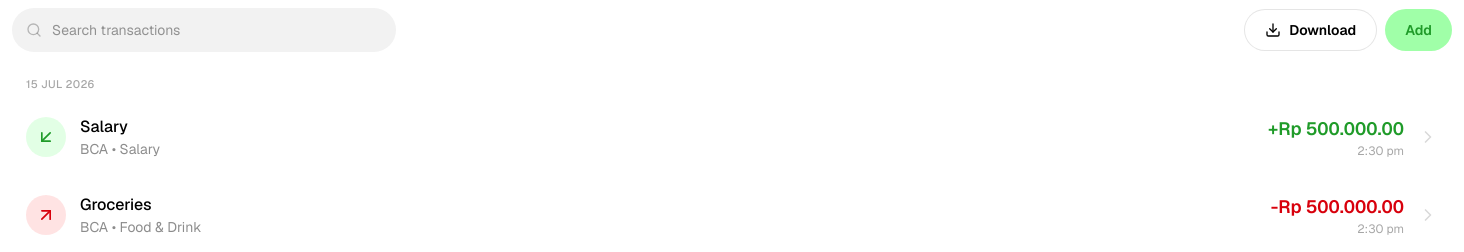
Test: TransactionsView — search filtering › filters transactions by category
Type "food" into the field with placeholder "Search transactions". click: (204, 30)
box: [12, 8, 396, 52]
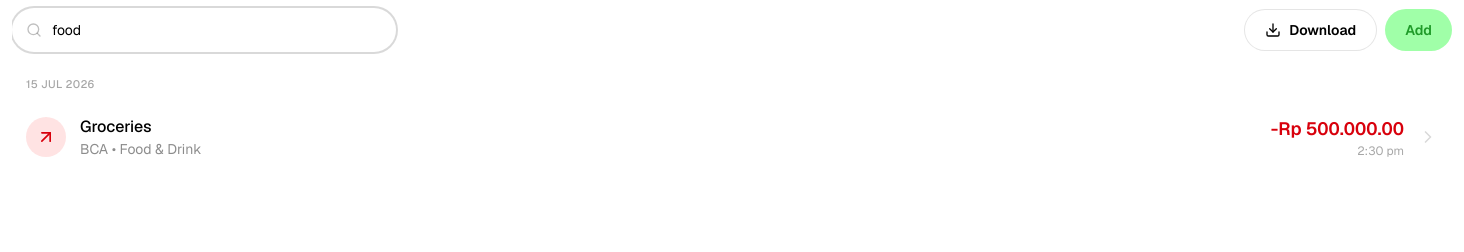
Expected: the text "Groceries" is shown, [80, 116, 152, 136]
Result: the button "Salary" is gone
